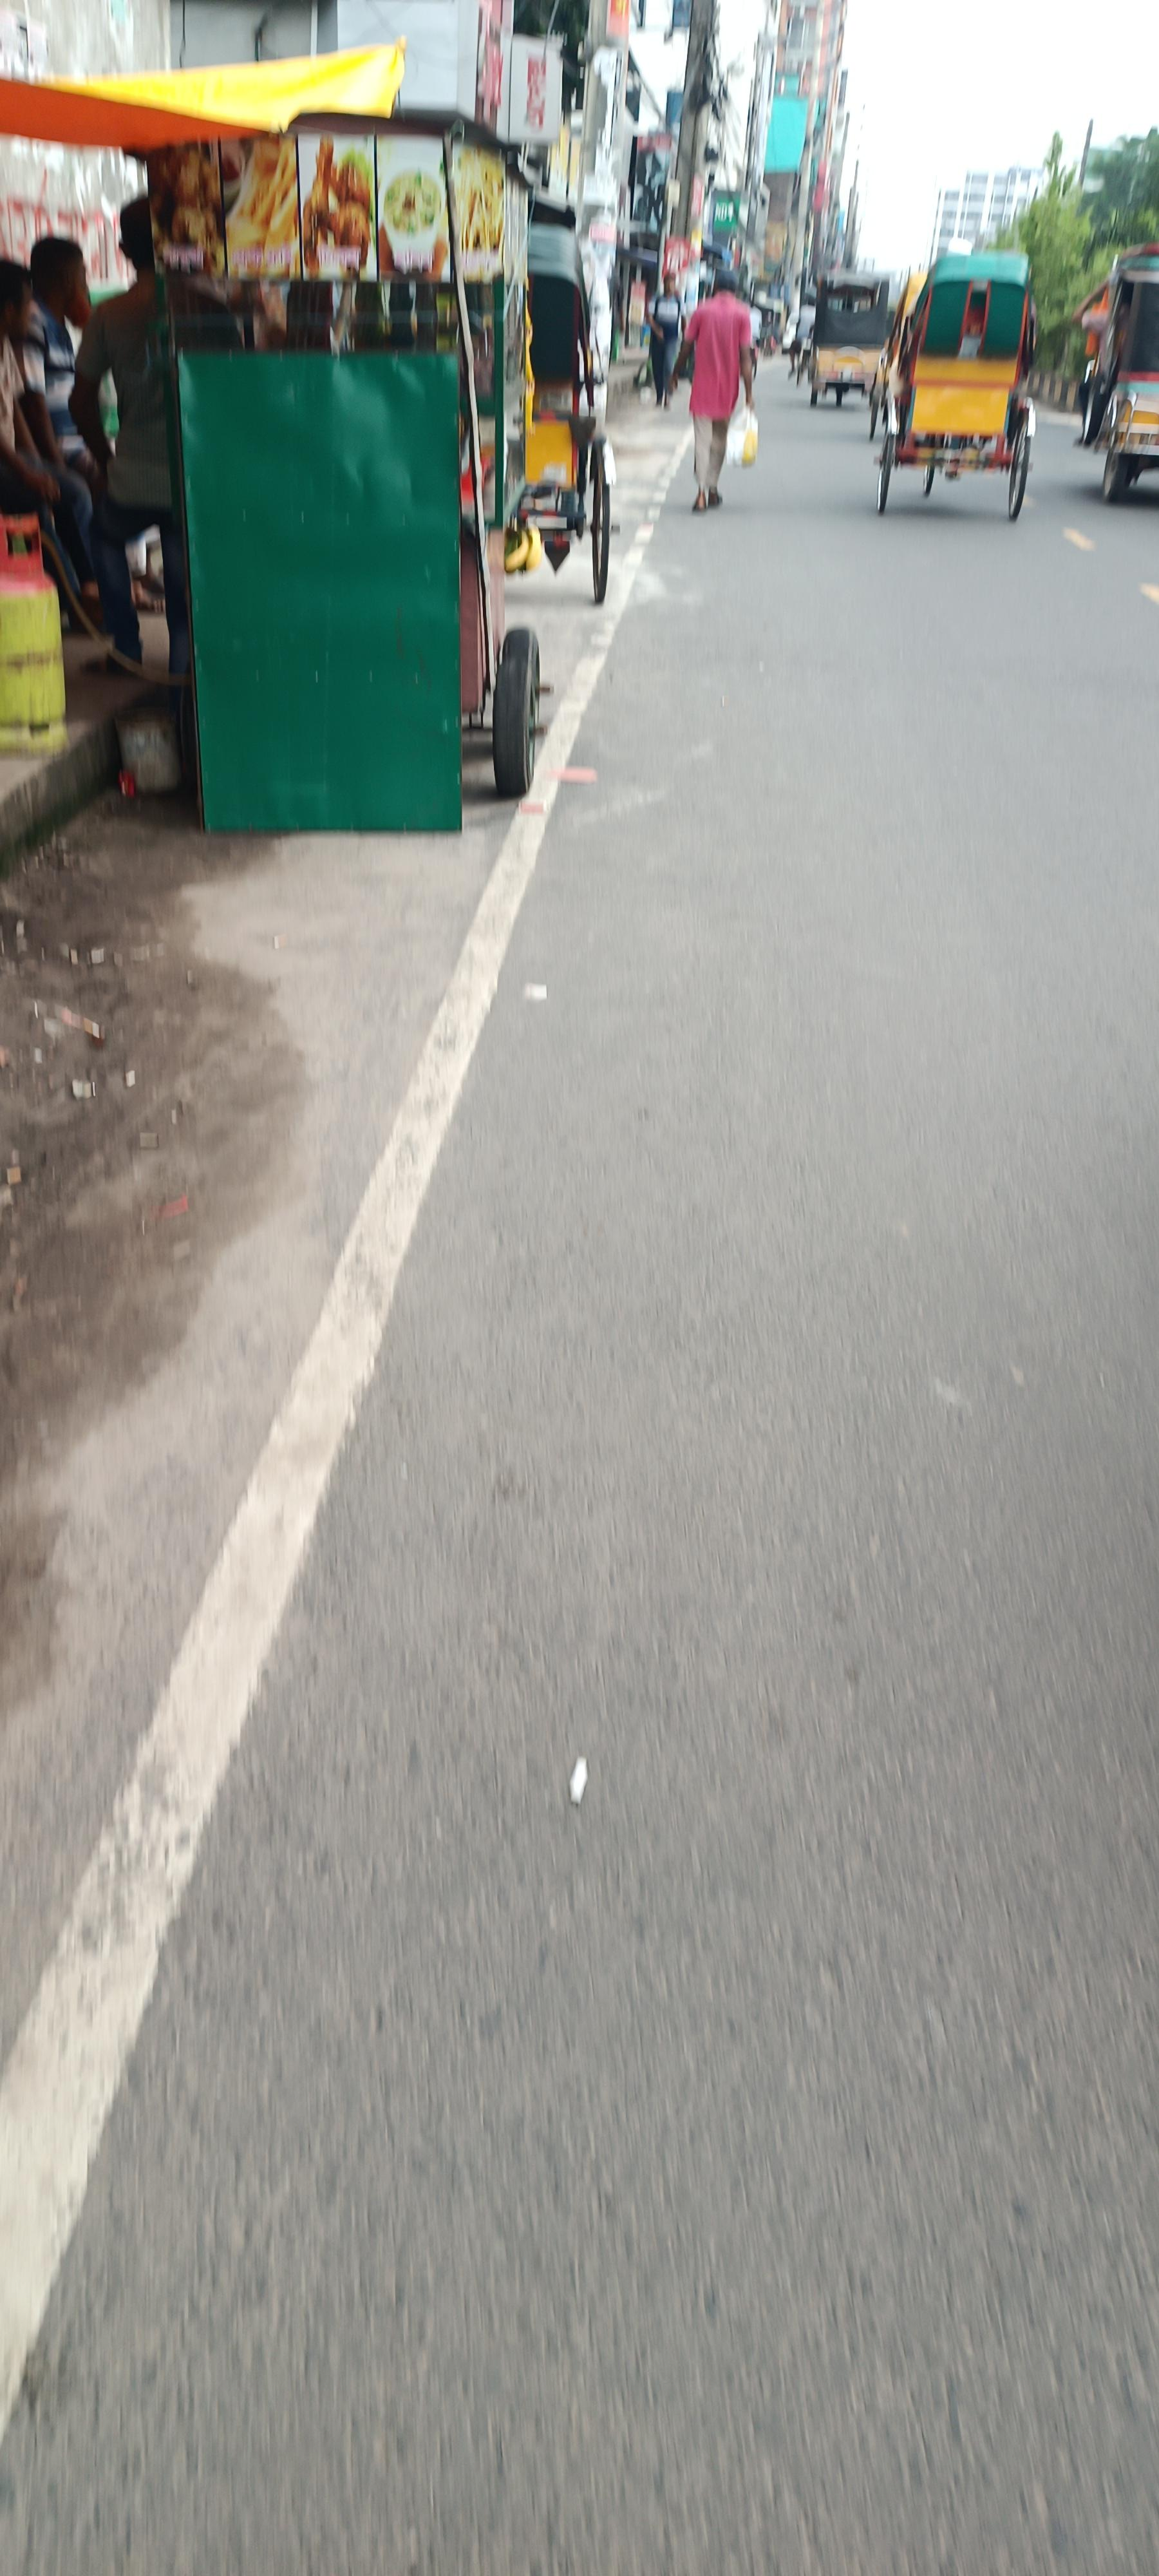Garbage-bin: (67, 194, 253, 682), (0, 258, 103, 631), (671, 268, 758, 511), (648, 271, 686, 407)
Traffic-cone: (870, 251, 1039, 521)
